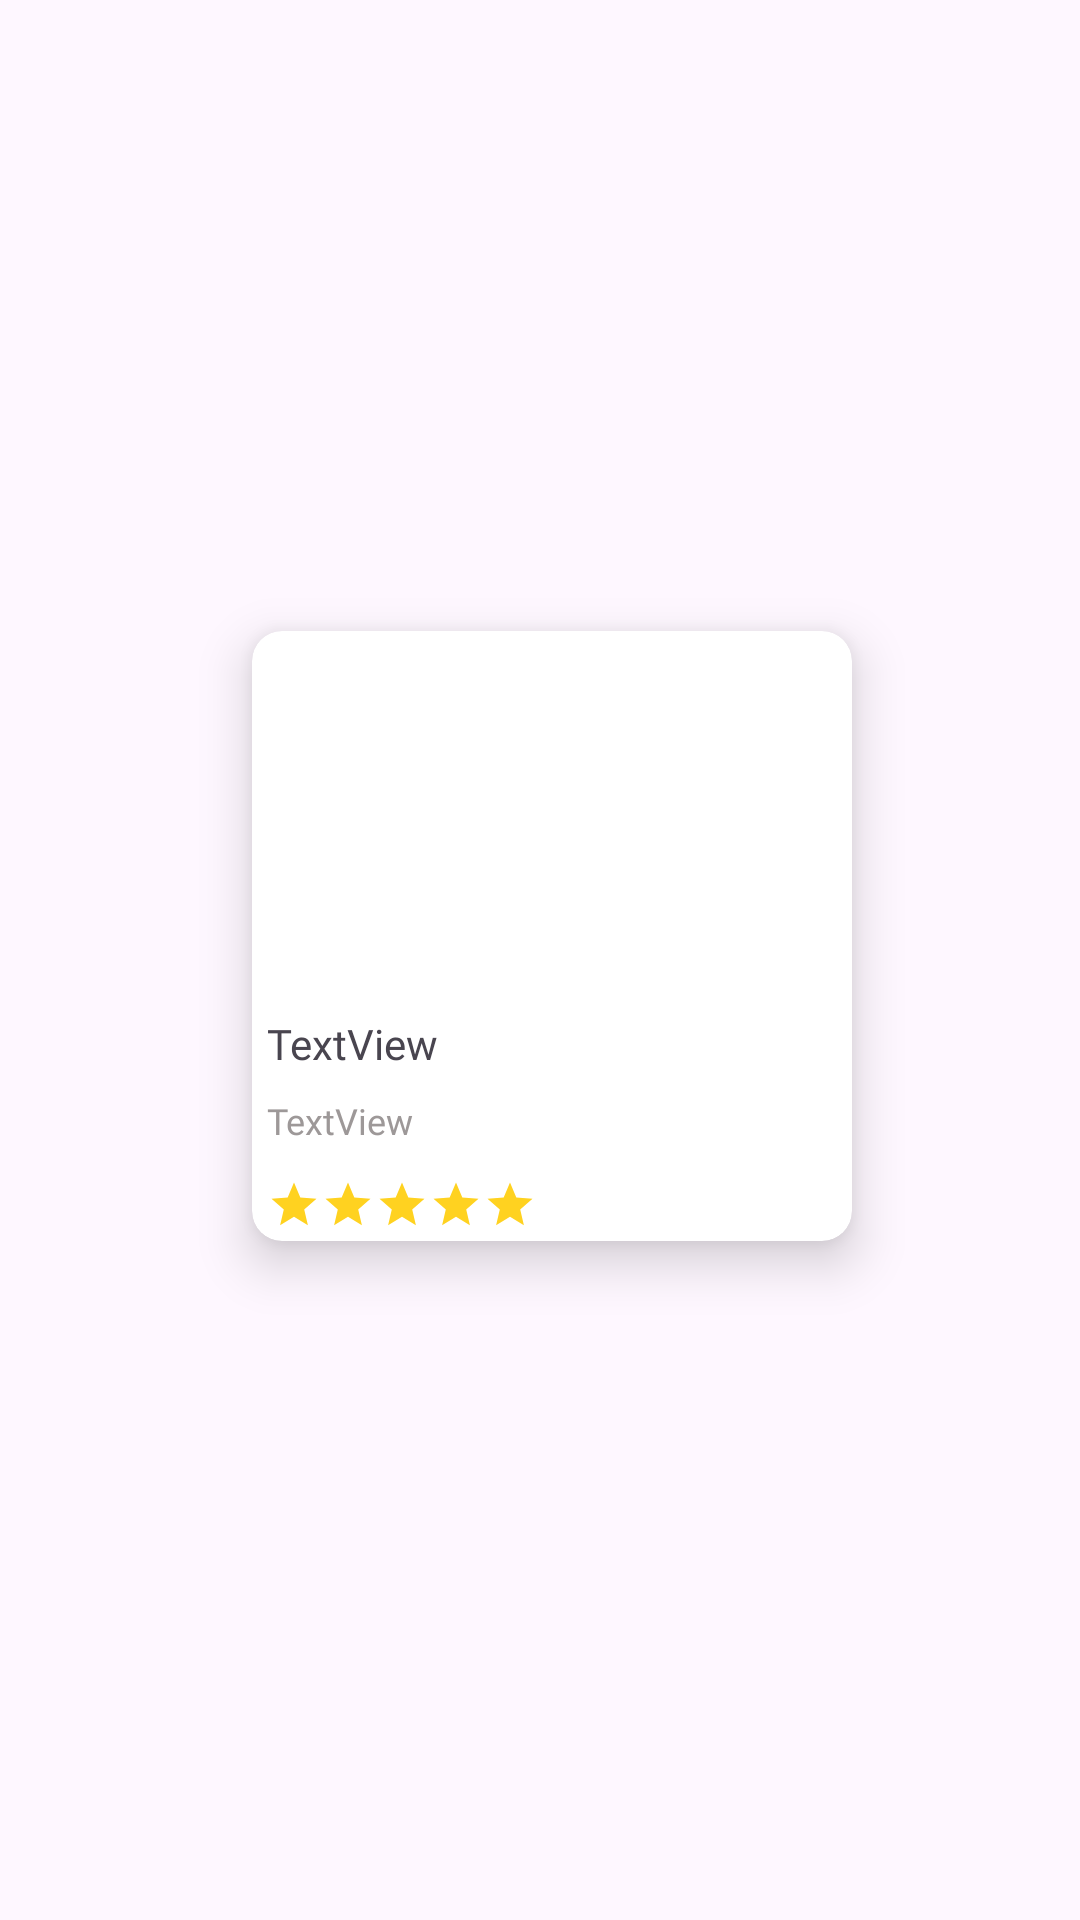

Named icons in this screenshot (1080*1920) and their bounding boxes, (x1, y1, x2, y2):
star: (272, 1183, 316, 1225), (326, 1183, 370, 1225), (380, 1183, 424, 1225), (434, 1183, 478, 1225), (488, 1183, 532, 1225)
